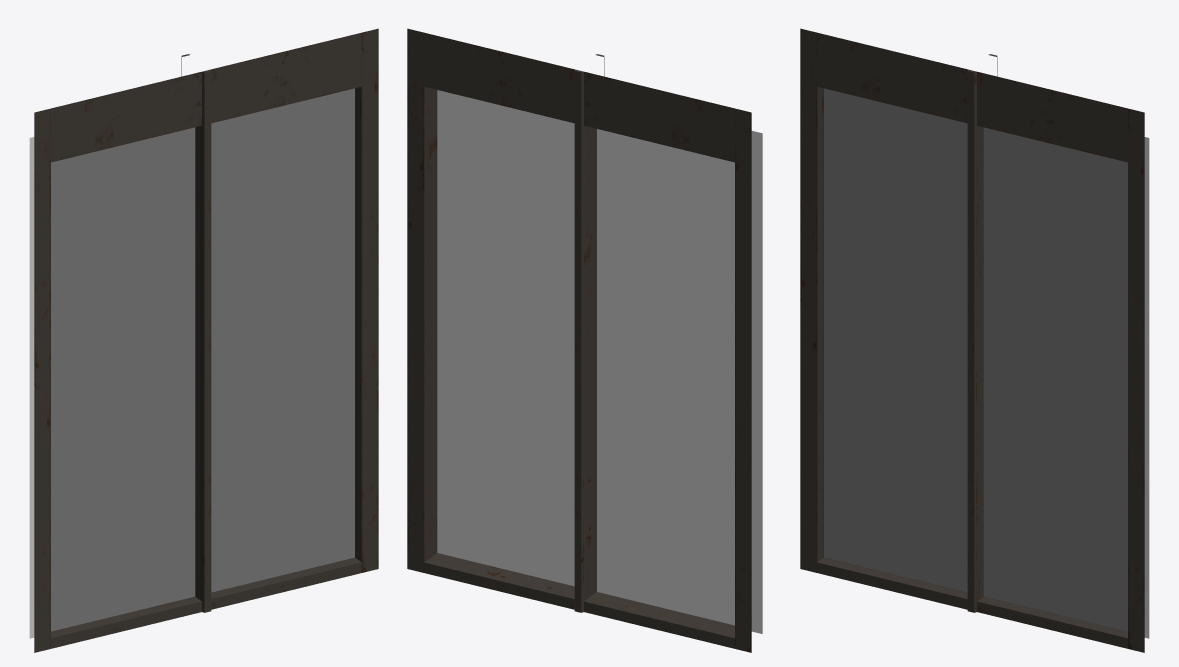
The model's file is Metal_FullWindow.gltf.
The picture shows the model from 3 angles, left to right: view 1: azimuth 30°, elevation 25°; view 2: azimuth 150°, elevation 25°; view 3: azimuth 330°, elevation 25°; orthographic projection.
Parts seen in each view (by area): view 1: Metal_FullWindow; view 2: Metal_FullWindow; view 3: Metal_FullWindow.
Boxes of the visible parts, bbox=[...] form: Metal_FullWindow: bbox=[29, 28, 378, 652]; Metal_FullWindow: bbox=[407, 28, 762, 652]; Metal_FullWindow: bbox=[800, 28, 1149, 652].
Size of the model in its own units: 2 by 3 by 0.2311.
3 materials, 1 textured.
